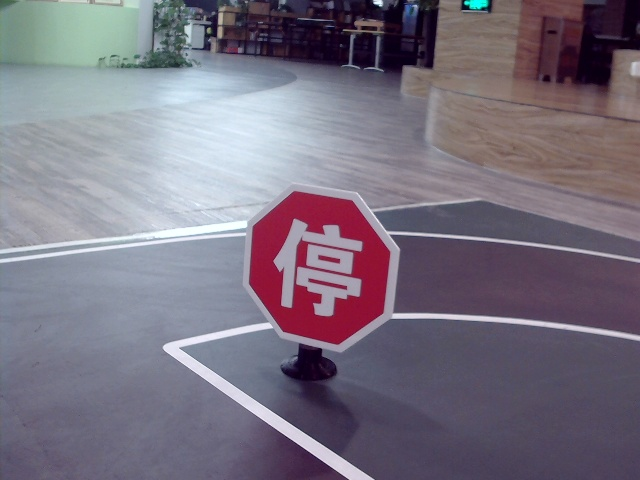stop: (272, 214, 366, 318)
